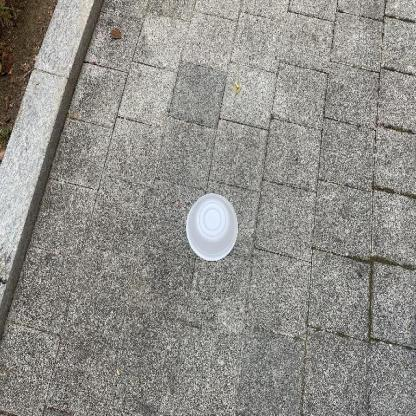Glass Cup: (187, 193, 238, 261), (187, 194, 238, 261)
